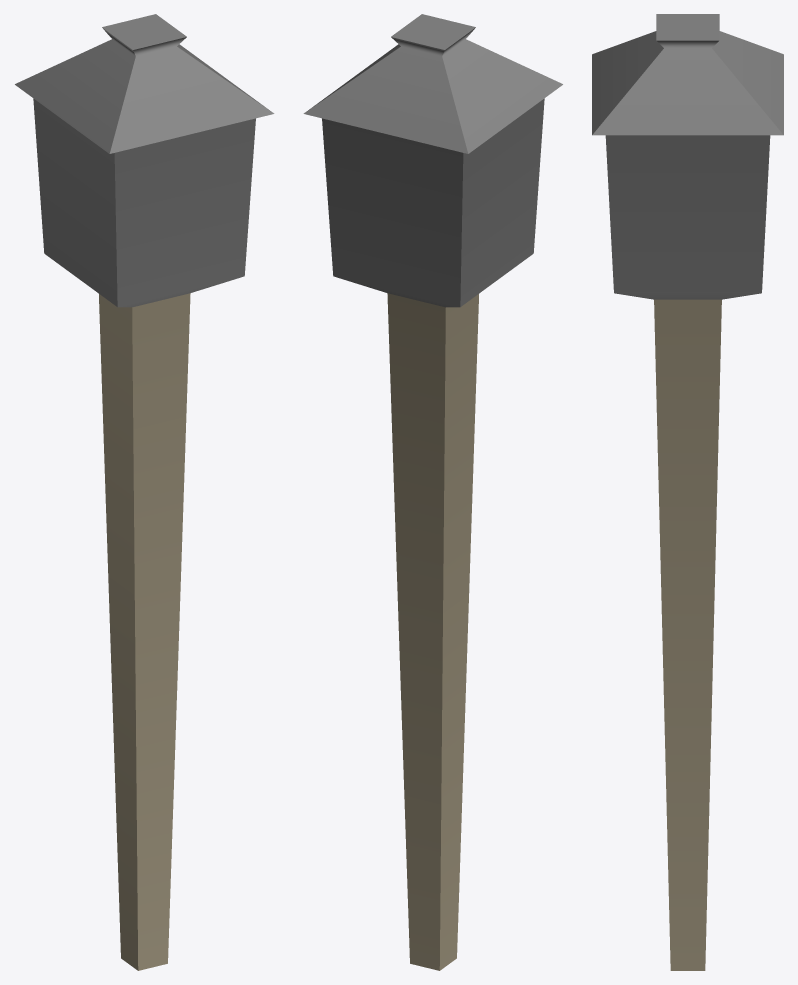
Rendered from bombsAway_tikiTorch.fbx.
3 views of the same model, side by side, from view 1: azimuth 30°, elevation 25°; view 2: azimuth 150°, elevation 25°; view 3: azimuth 270°, elevation 25° (orthographic).
Parts seen in each view (by area): view 1: tikiTorchMesh; view 2: tikiTorchMesh; view 3: tikiTorchMesh.
Part boxes in pixels (x1,y1,x2,y2): tikiTorchMesh: (15,14,274,970); tikiTorchMesh: (303,14,562,970); tikiTorchMesh: (592,14,783,970).
Size of the model in its own units: 0.2004 by 1.08 by 0.2004.
